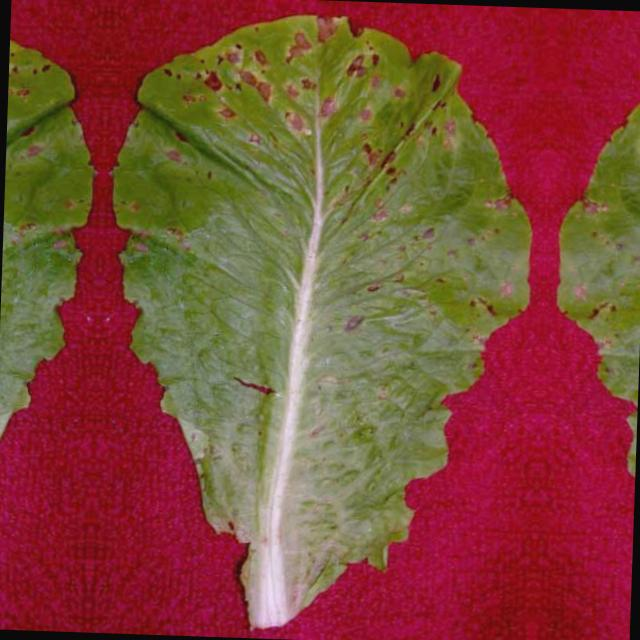Septoria_Blight: (168, 7, 470, 142), (332, 144, 441, 240), (7, 0, 44, 126), (631, 22, 640, 147), (339, 304, 365, 338)
